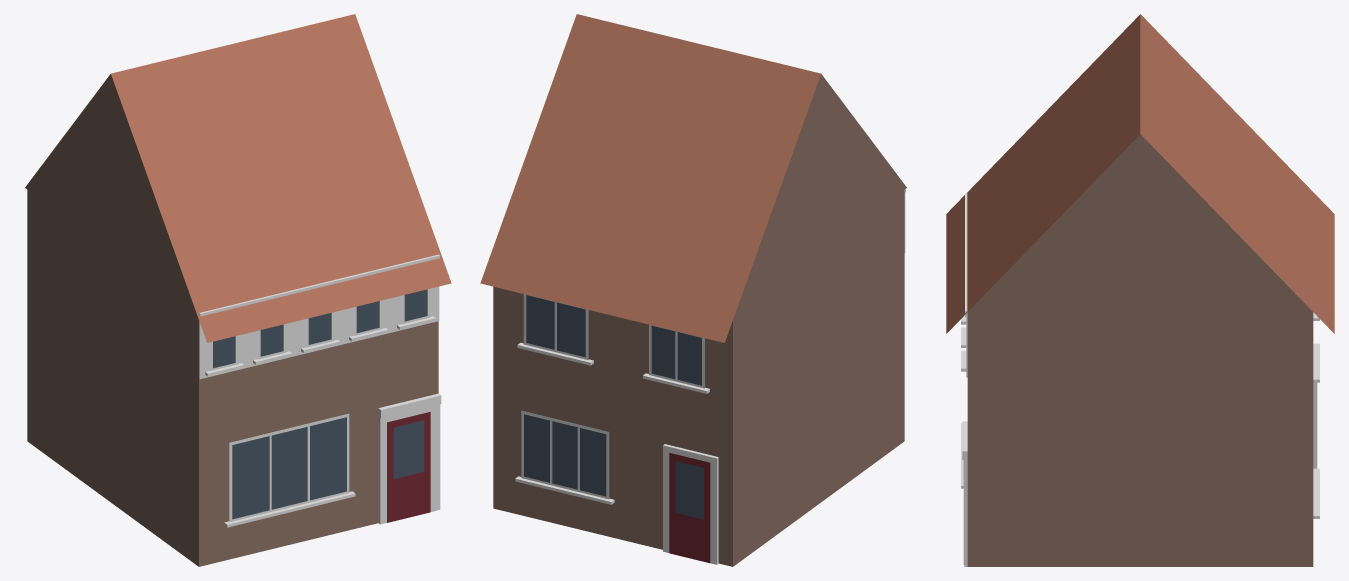
Rendered from nn-band__band__2__gable__long__solid__mirror.glb.
The picture shows the model from 3 angles, left to right: view 1: azimuth 30°, elevation 25°; view 2: azimuth 150°, elevation 25°; view 3: azimuth 270°, elevation 25°; orthographic projection.
Parts seen in each view (by area): view 1: nn-band__band__2__gable__long__solid__mirror; view 2: nn-band__band__2__gable__long__solid__mirror; view 3: nn-band__band__2__gable__long__solid__mirror.
Boxes of the visible parts, bbox=[...] form: nn-band__band__2__gable__long__solid__mirror: bbox=[25, 14, 451, 566]; nn-band__band__2__gable__long__solid__mirror: bbox=[480, 14, 906, 566]; nn-band__band__2__gable__long__solid__mirror: bbox=[946, 14, 1334, 566].
Size of the model in its own units: 5.34 by 8.99 by 7.3.
